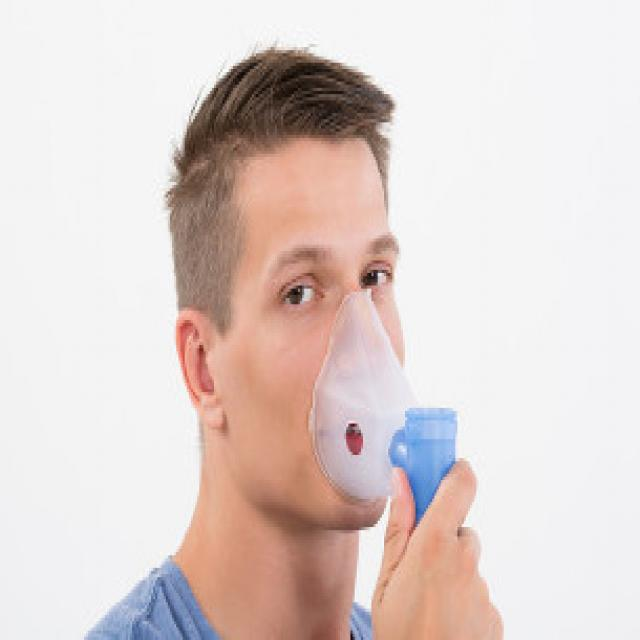mask: (226, 135, 417, 524)
